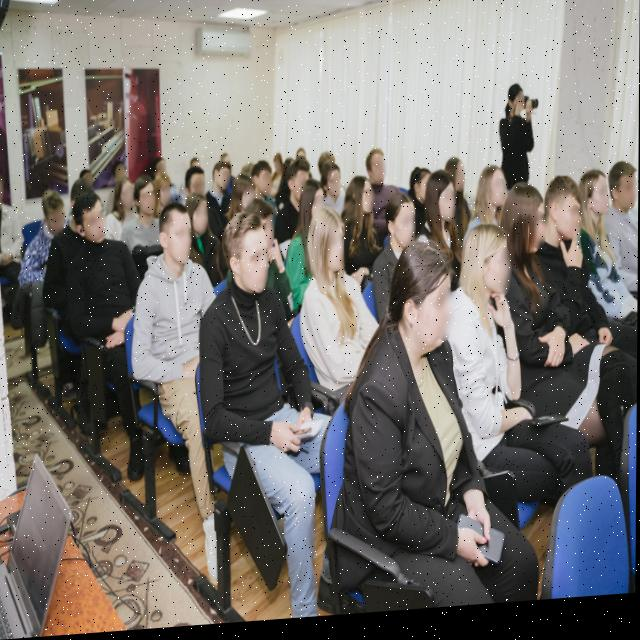Person: (354, 251, 463, 587), (202, 213, 291, 521), (136, 204, 213, 432), (48, 191, 135, 387), (449, 230, 516, 474), (501, 185, 553, 398), (299, 206, 353, 401), (535, 183, 587, 362), (28, 187, 78, 313), (367, 199, 423, 302), (605, 156, 639, 307), (499, 84, 545, 195), (579, 172, 611, 305), (420, 173, 463, 258), (472, 164, 511, 227), (285, 187, 328, 239), (316, 165, 346, 224), (372, 139, 400, 201), (277, 168, 309, 216), (133, 179, 157, 241), (251, 157, 279, 206), (202, 162, 233, 203), (192, 190, 211, 256), (115, 178, 141, 221), (231, 173, 255, 218), (284, 146, 309, 183), (154, 171, 174, 215), (71, 162, 100, 191), (113, 152, 132, 193), (185, 167, 202, 203)
